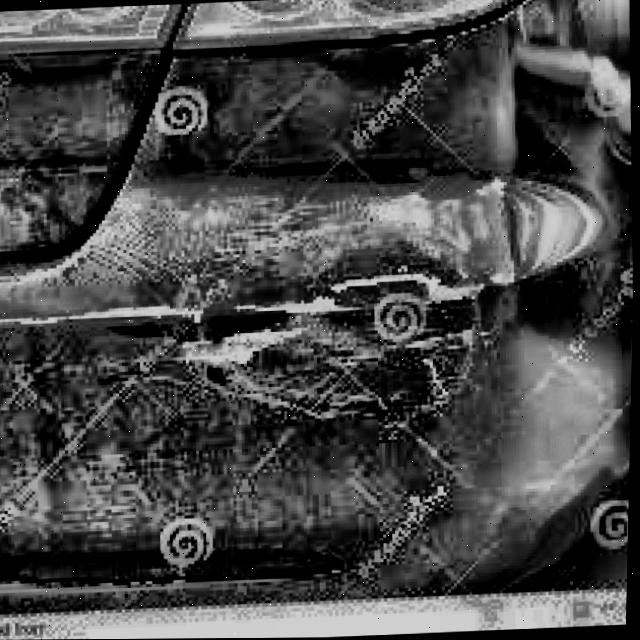bumper_dent: (186, 155, 577, 470)
